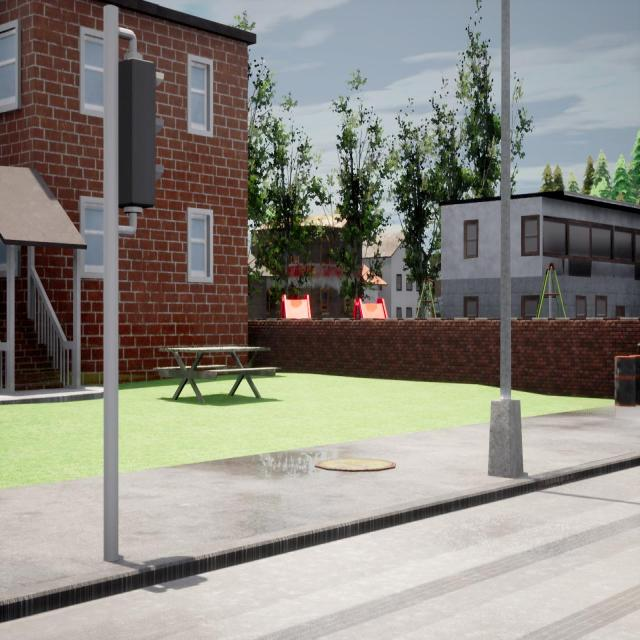traffic_light: (118, 58, 166, 210)
